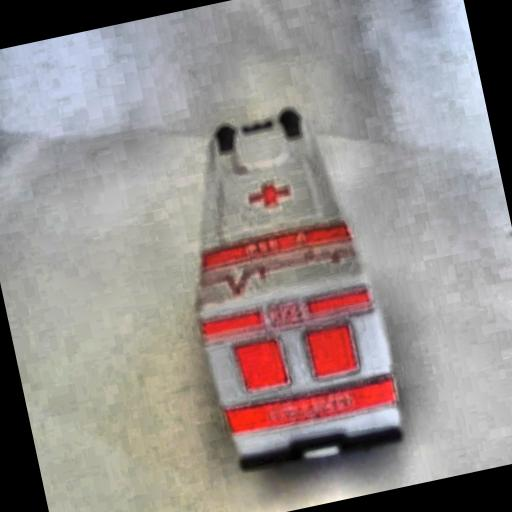ambulance: (156, 97, 407, 478)
